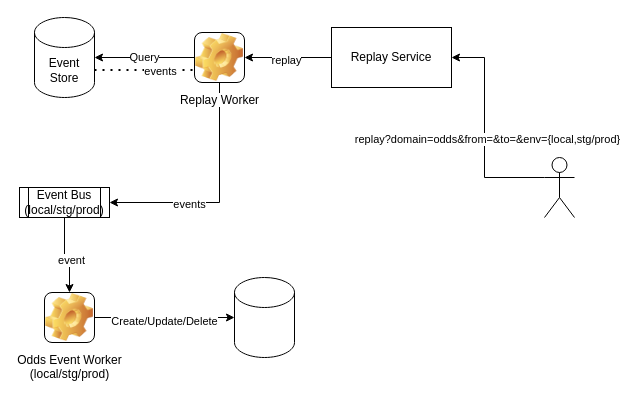
This 637x400 diagram has some shape labels left out. Each missing label, with the centre of its shape:
(local/stg/prod) Odds DB: pixel 264 317
Op: pixel 559 187
